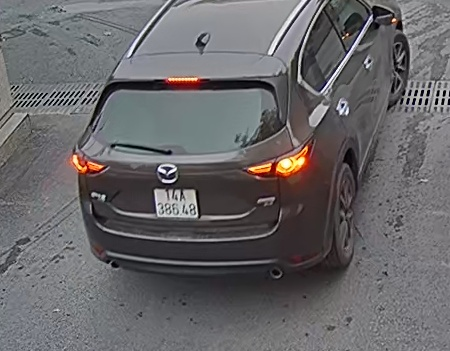vehicle plate: (152, 184, 198, 219)
